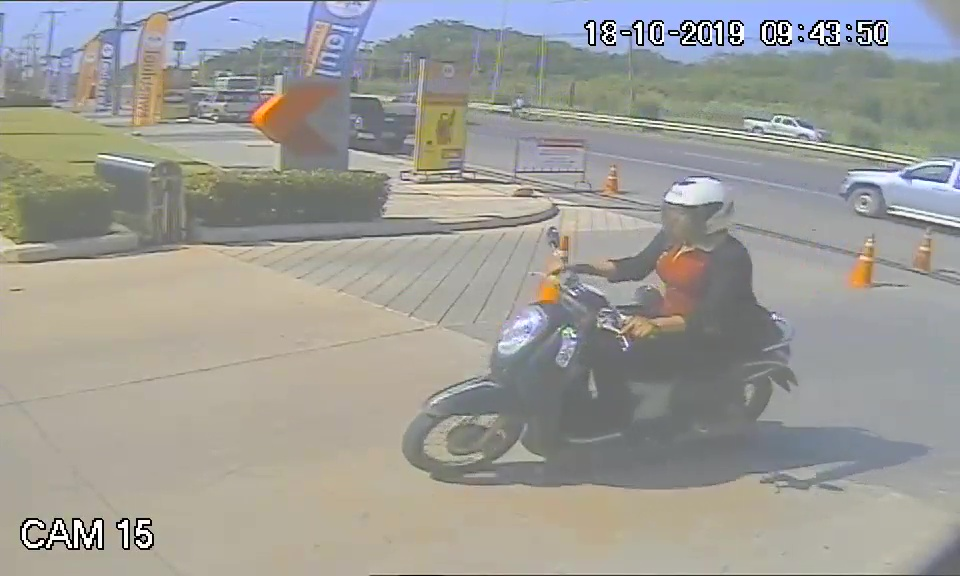motorcycle: (402, 270, 802, 486)
